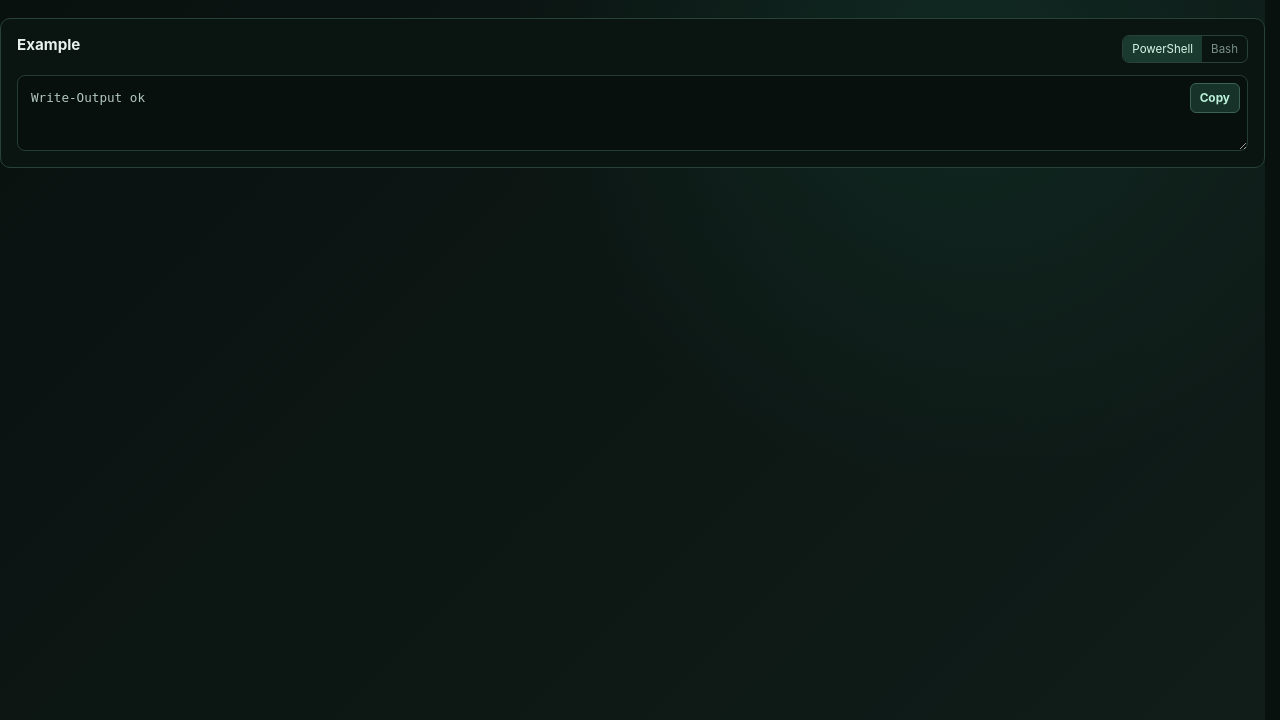
Test case: workflow commands › switches shells and remembers the preference
Step 1. Click the button "Bash" → (1225, 49), box [1202, 36, 1247, 62]
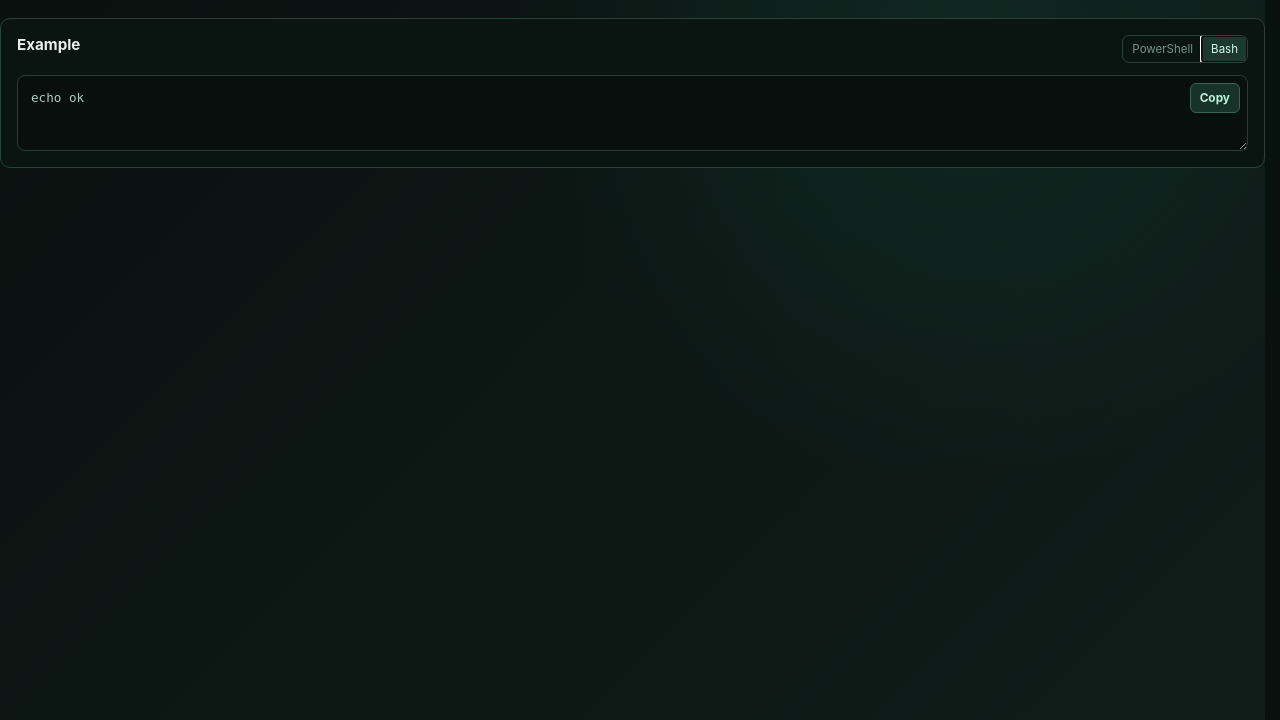
Result: the text box named "Example command" holds "echo ok" at [17, 75, 1248, 151]
